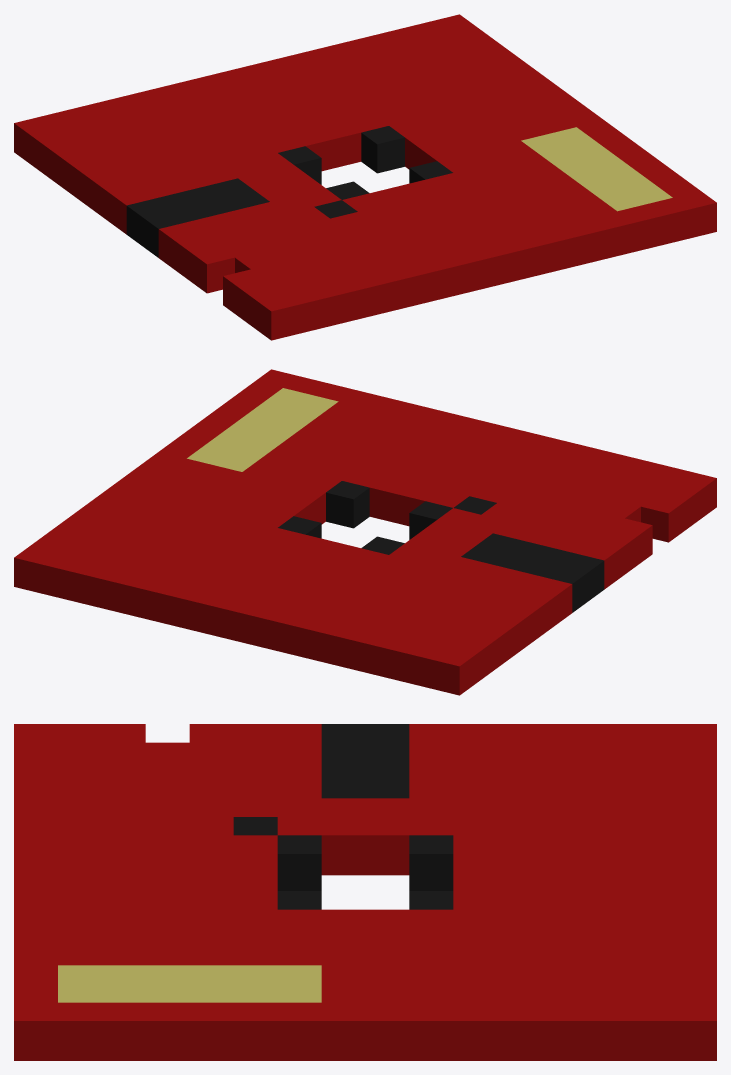
File: 1980s Retroo Diskette Red.fbx
3 renders of one model, top to bottom at view 1: azimuth 30°, elevation 25°; view 2: azimuth 150°, elevation 25°; view 3: azimuth 270°, elevation 25°, orthographic. The views are drawn at different scales.
Parts seen in each view (by area): view 1: 1980sRed525inchFloppyDisk; view 2: 1980sRed525inchFloppyDisk; view 3: 1980sRed525inchFloppyDisk.
Part boxes in pixels (bbox=[...]): 1980sRed525inchFloppyDisk: bbox=[14, 14, 716, 340]; 1980sRed525inchFloppyDisk: bbox=[14, 369, 716, 695]; 1980sRed525inchFloppyDisk: bbox=[14, 724, 716, 1060].
Bounding box in the file's own units: 1600 × 100 × 1600.
